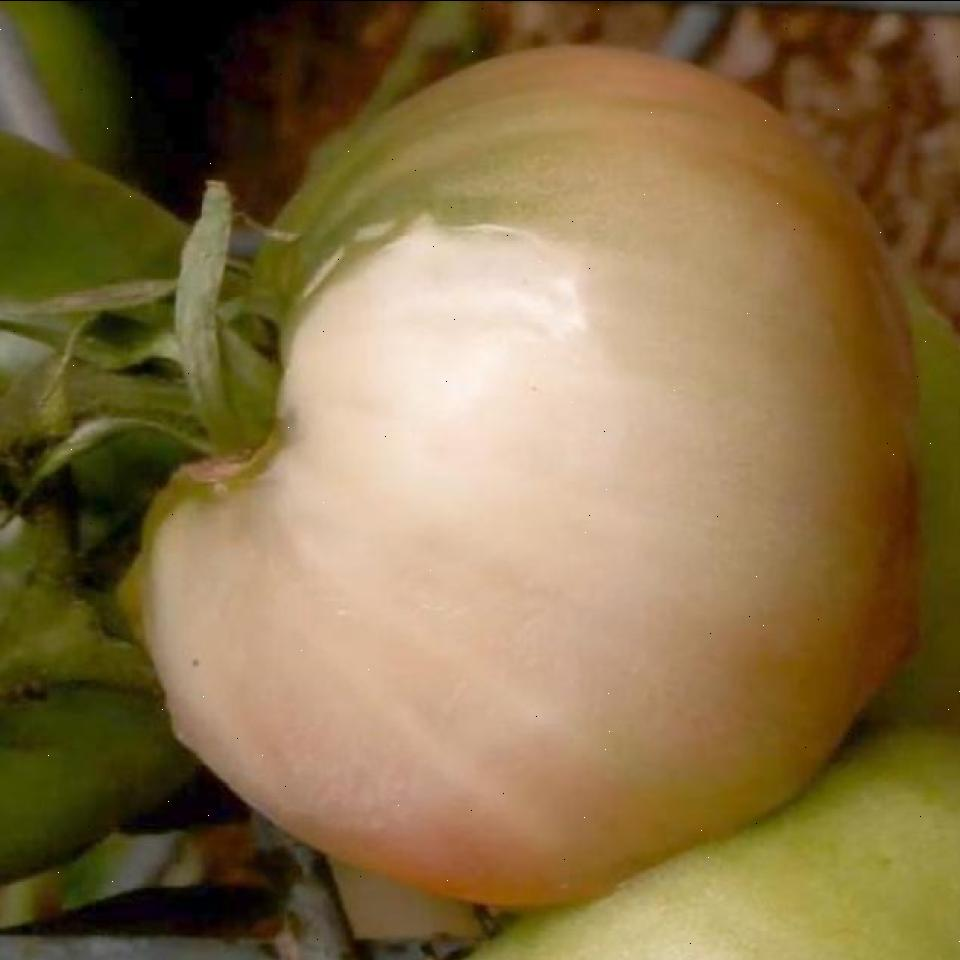Sunscald: (146, 200, 635, 832)
